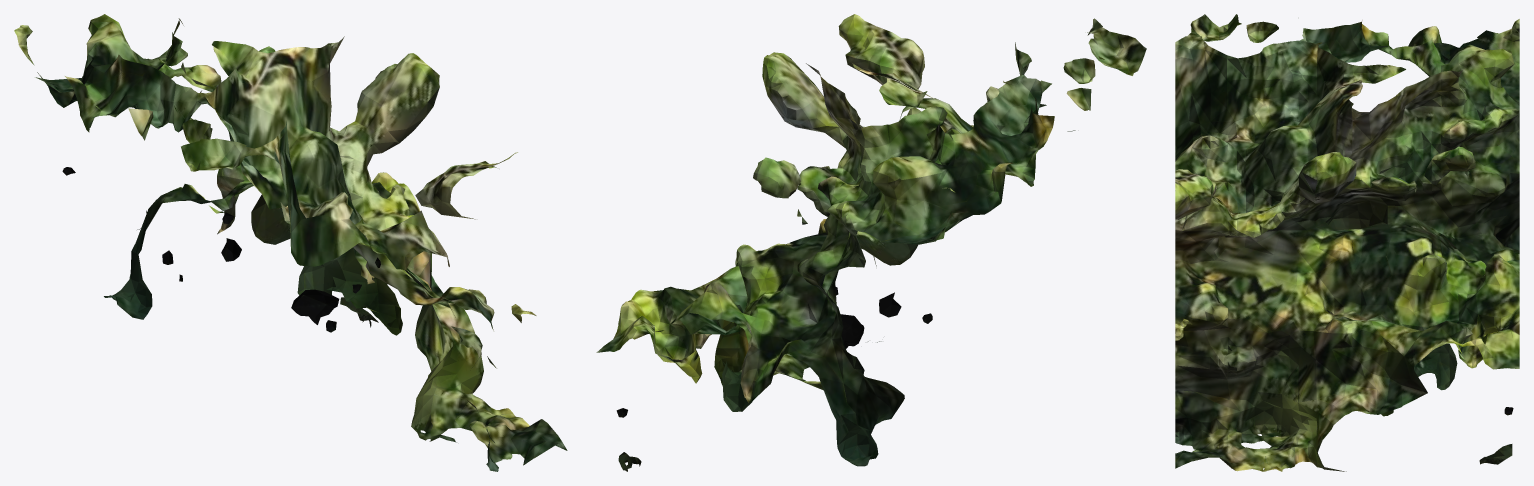
3 renders of one model, left to right at view 1: azimuth 30°, elevation 25°; view 2: azimuth 150°, elevation 25°; view 3: azimuth 270°, elevation 25°, orthographic. The views are drawn at different scales.
Bounding box in the file's own units: 1.67 × 1.67 × 1.67.
6 materials, 6 textured.
